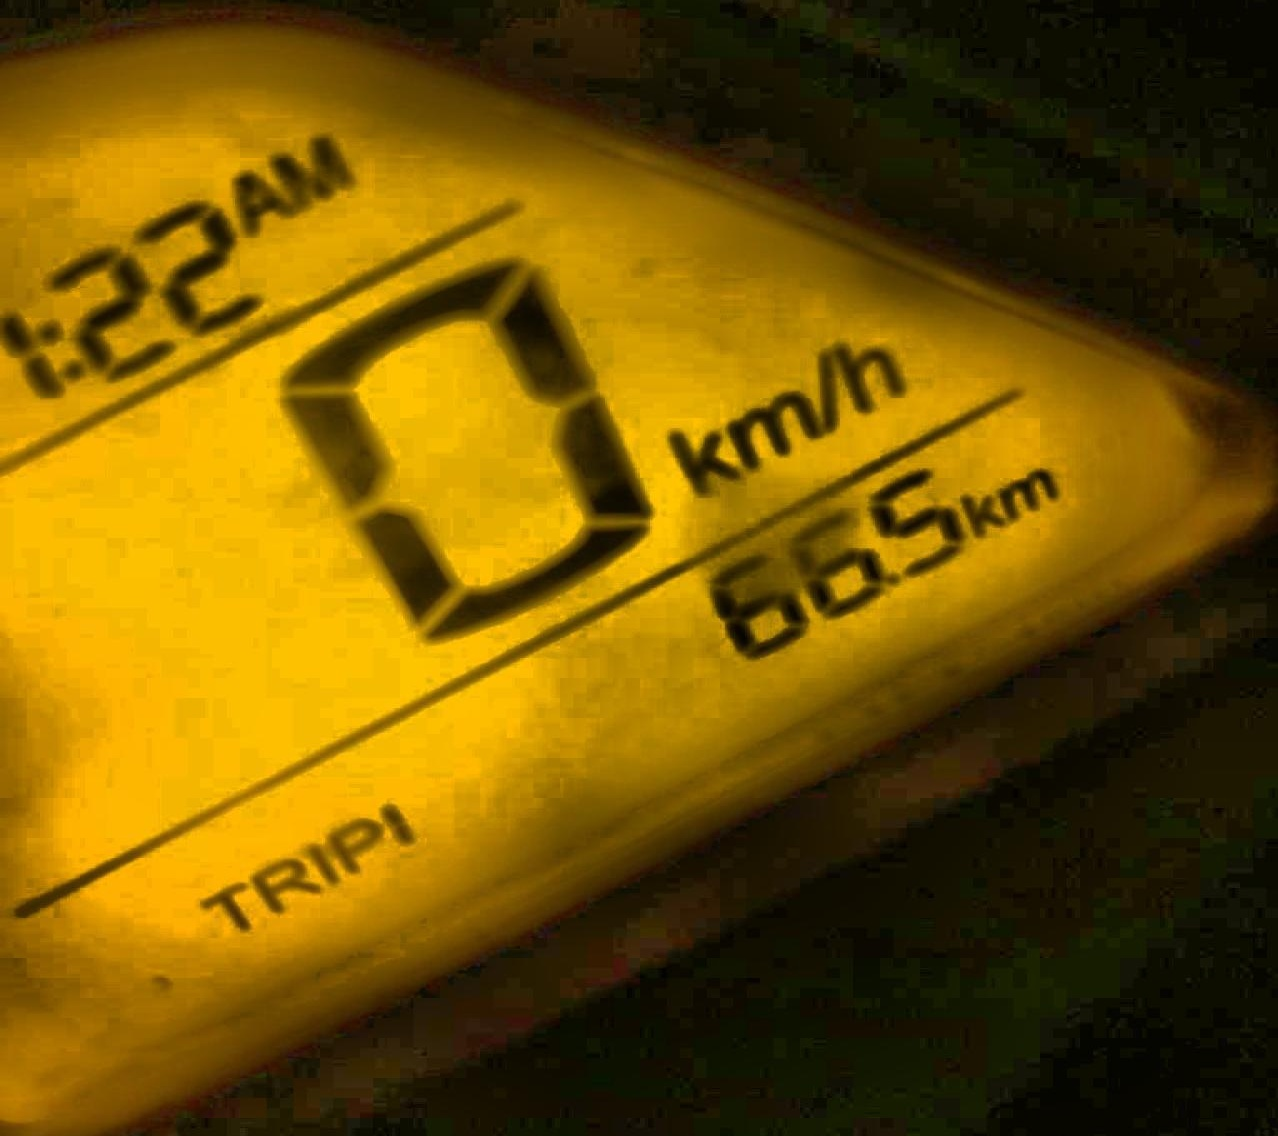-: (883, 565, 899, 590)
0: (281, 261, 650, 640)
1: (1, 306, 60, 404), (376, 795, 425, 851)
2: (48, 243, 181, 377), (133, 198, 258, 332)
5: (861, 466, 961, 573)
6: (701, 550, 803, 659), (788, 509, 885, 620)
X: (831, 336, 915, 411), (730, 387, 815, 461), (276, 130, 351, 205), (666, 425, 735, 490), (222, 167, 294, 227), (249, 857, 318, 915), (33, 317, 85, 380), (999, 464, 1059, 518), (190, 878, 250, 932), (326, 818, 380, 873), (813, 350, 844, 431), (958, 482, 1003, 535), (303, 841, 336, 884)
